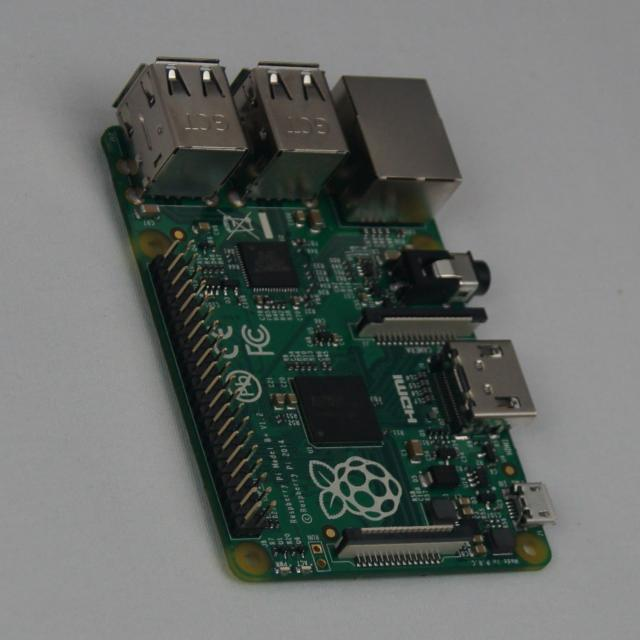Raspberry Pi 1 B-: (102, 59, 552, 581)
